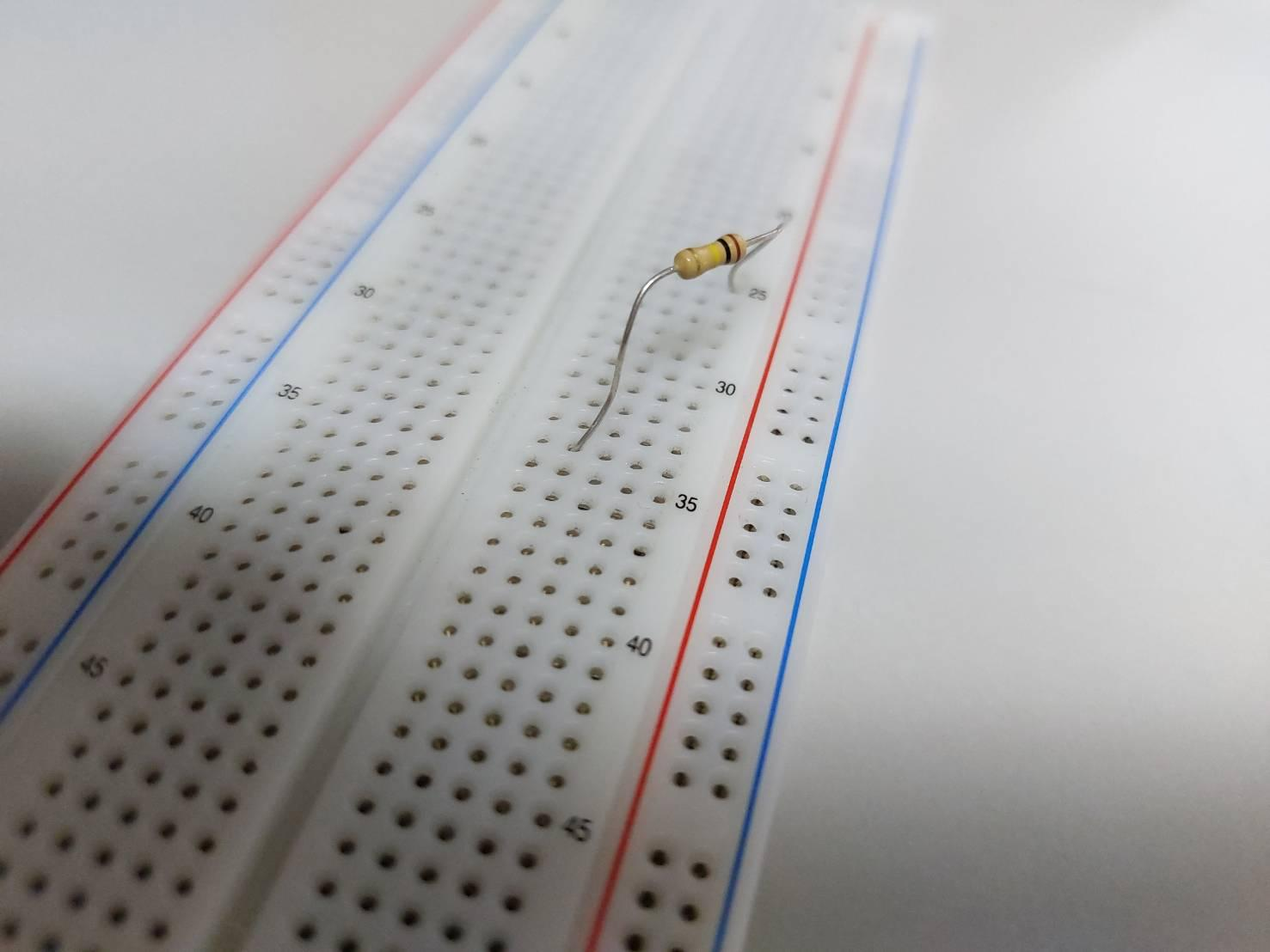resistor: (673, 232, 747, 281)
